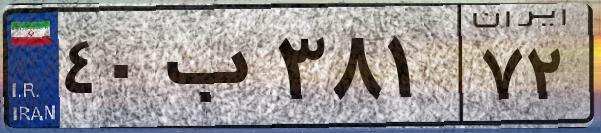0: (110, 28, 158, 98)
1: (385, 28, 445, 110)
2: (525, 38, 570, 115)
3: (270, 28, 330, 110)
4: (57, 26, 110, 100)
7: (475, 38, 525, 113)
8: (330, 28, 385, 110)
ب: (158, 20, 270, 120)
